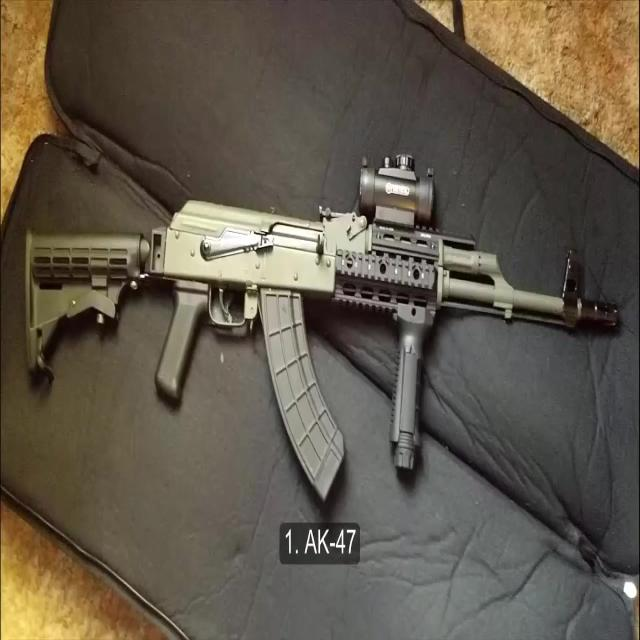Weapon: (0, 110, 624, 546)
